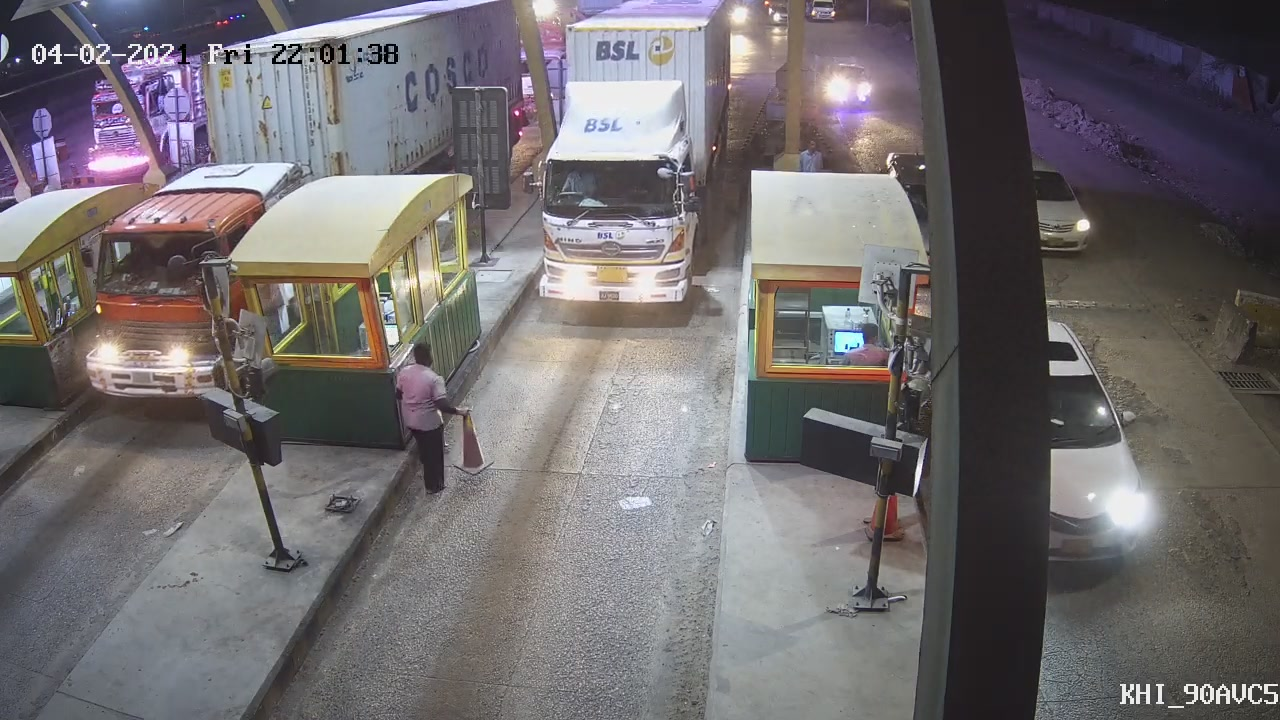F6: (520, 8, 735, 319)
